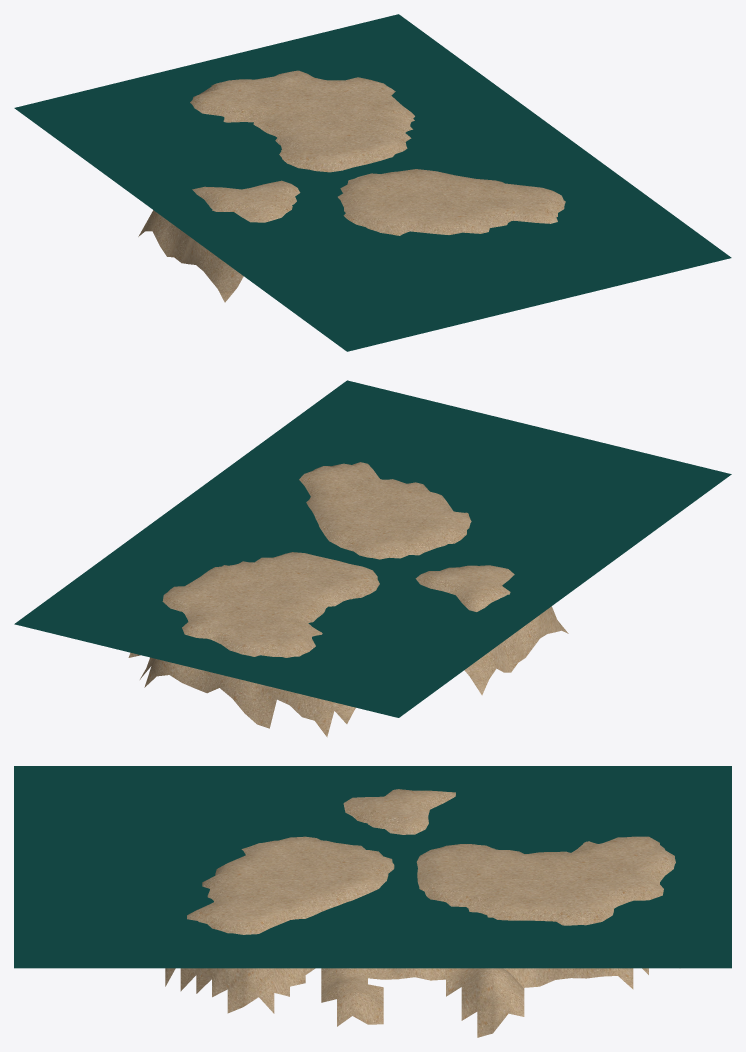
The model's file is sea_geme.fbx.
3 renders of one model, top to bottom at view 1: azimuth 30°, elevation 25°; view 2: azimuth 150°, elevation 25°; view 3: azimuth 270°, elevation 25°, orthographic. The views are drawn at different scales.
Visible parts, largest first — view 1: Plane, Landscape.001; view 2: Plane, Landscape.001; view 3: Plane, Landscape.001.
Boxes of the visible parts, x1=… form: Plane: x1=14, y1=14, x2=731, y2=351; Landscape.001: x1=138, y1=70, x2=565, y2=302; Plane: x1=14, y1=380, x2=731, y2=717; Landscape.001: x1=128, y1=462, x2=568, y2=737; Plane: x1=14, y1=766, x2=731, y2=968; Landscape.001: x1=165, y1=789, x2=675, y2=1037.
Size of the model in its own units: 142 by 22.35 by 200.
